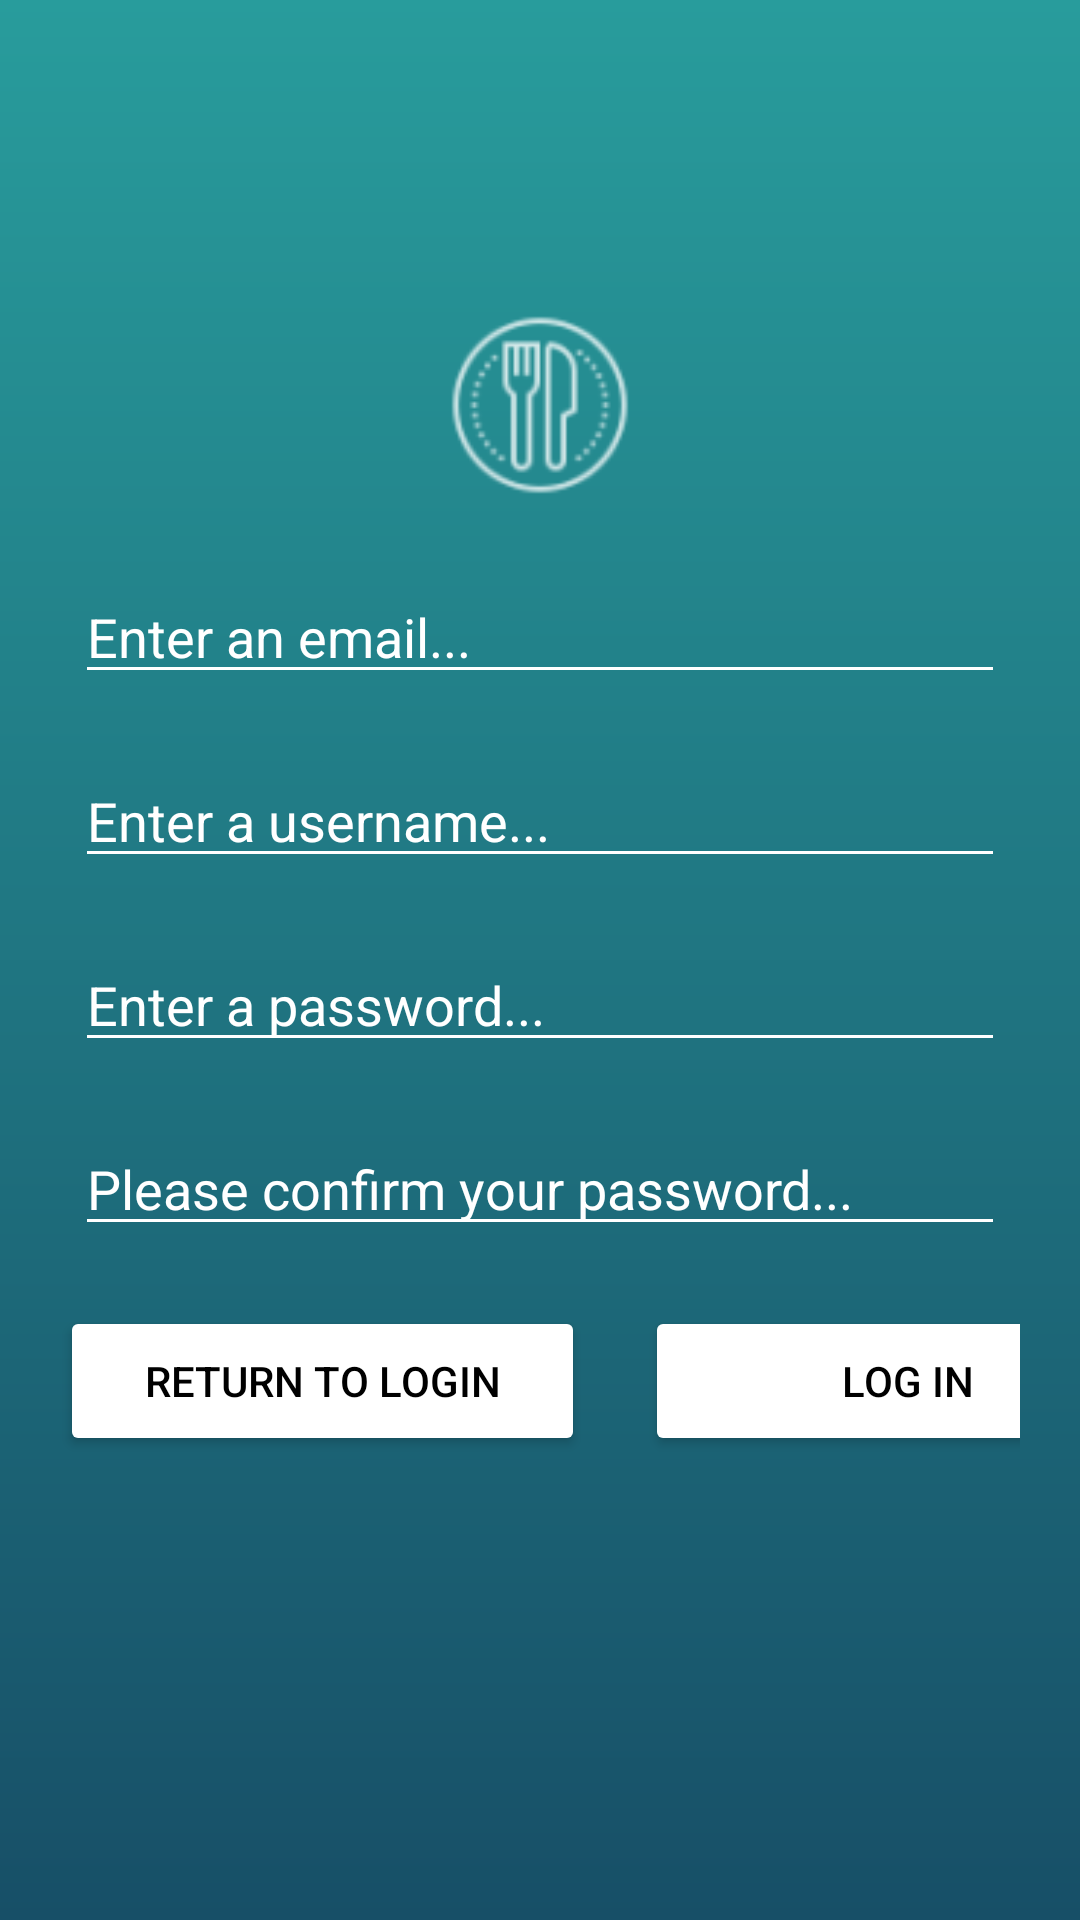

Named icons in this screenshot (1080 × 1920) and their bounding boxes, rect(x1, y1, x2, y2):
meal: rect(452, 317, 628, 493)
